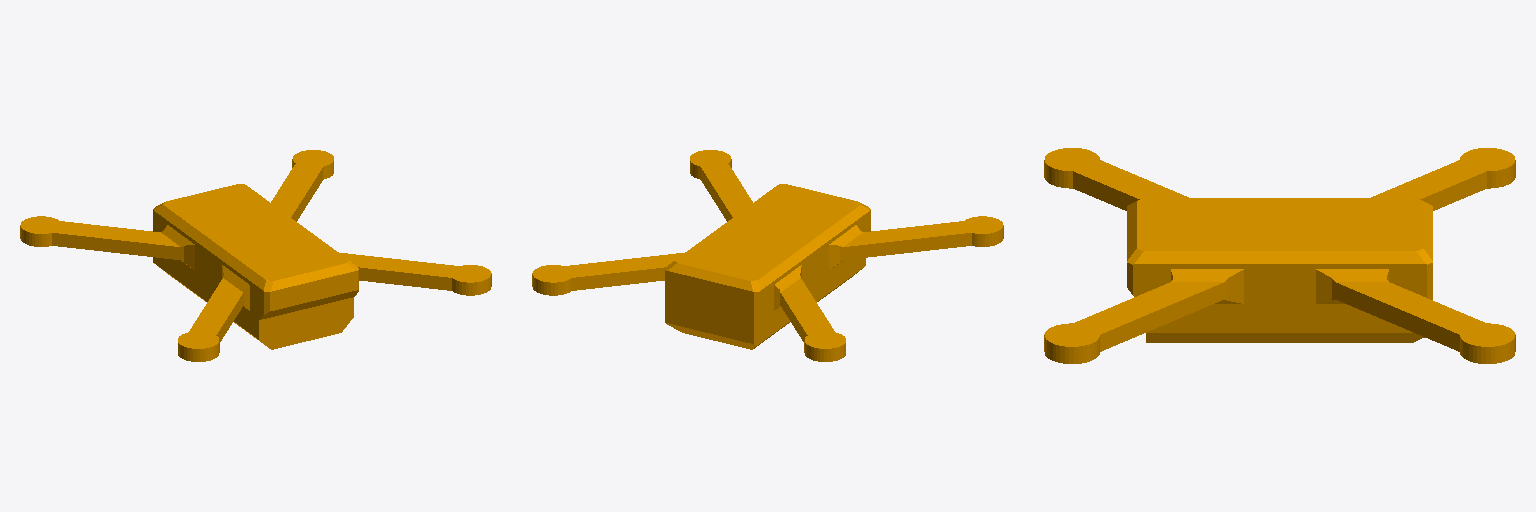
The robot description file, URDF, robot "FAST_DESING":
<?xml version='1.0' encoding='utf-8'?>
<robot name="FAST_DESING">
    <link name="Componente1">
        <inertial>
            <origin xyz="-2.521039982942914e-17 0.0019173457818918386 0.004600386758328884" rpy="0.0 0.0 0.0" />
            <mass value="0.7648148307064229" />
            <inertia ixx="0.002173442058741212" iyy="0.0011799046639595612" izz="0.0030238000221793895" ixy="-4.664477938218721e-18" iyz="1.7335722878016163e-05" ixz="-1.2455786411706615e-18" />
        </inertial>
        <visual name="Componente1_visual">
            <origin xyz="0.0 0.0 0.0" rpy="0.0 0.0 0.0" />
            <geometry>
                <mesh filename="meshes/Componente1.stl" scale="0.001 0.001 0.001" />
            </geometry>
        </visual>
        <collision name="Componente1_collision">
            <origin xyz="0.0 0.0 0.0" rpy="0.0 0.0 0.0" />
            <geometry>
                <mesh filename="meshes/Componente1.stl" scale="0.001 0.001 0.001" />
            </geometry>
        </collision>
    </link>
</robot>

--- Facts derived from the render (not from the file) ---
The picture shows the robot from 3 angles, left to right: view 1: azimuth 30°, elevation 25°; view 2: azimuth 150°, elevation 25°; view 3: azimuth 270°, elevation 25°; orthographic projection.
Robot: FAST_DESING — 1 links, 0 joints (none); root link Componente1; default pose: every joint at zero.
Visible links, largest first — view 1: Componente1; view 2: Componente1; view 3: Componente1.
Boxes of the visible links, x1=… form: Componente1: x1=20, y1=150, x2=491, y2=361; Componente1: x1=532, y1=150, x2=1003, y2=361; Componente1: x1=1044, y1=148, x2=1515, y2=363.
Size in the robot's own frame: 0.2465 by 0.2465 by 0.055 metres.
1 mesh visuals loaded from 1 distinct referenced files (1 binary STL).